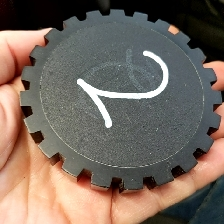gear: (18, 7, 224, 195)
